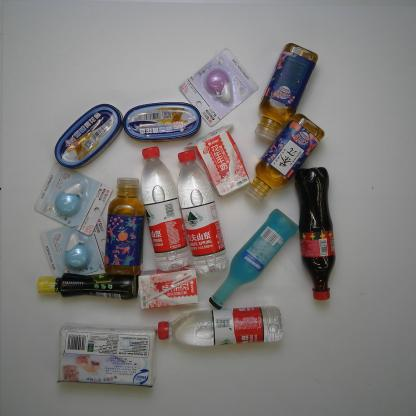Alcohol: (208, 208, 299, 309)
Canned Food: (53, 103, 123, 167), (117, 102, 202, 142)
Drink: (242, 112, 326, 202), (174, 148, 230, 274), (139, 145, 193, 271), (252, 42, 318, 143), (294, 166, 338, 301), (157, 306, 286, 350), (102, 175, 146, 277)
Milk: (185, 124, 250, 198), (136, 266, 202, 311)
Seasoner: (36, 272, 139, 302)
Stationery: (178, 48, 258, 128), (34, 160, 115, 236), (40, 214, 113, 286)
Tissue: (56, 324, 160, 388)
